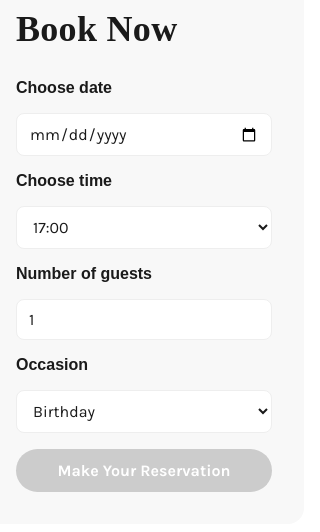
Test: submit button is disabled and error shows when a past date is entered
Type "2020-01-01" into the date field labelled "Choose date". click: (144, 135)
box: [16,113,272,156]
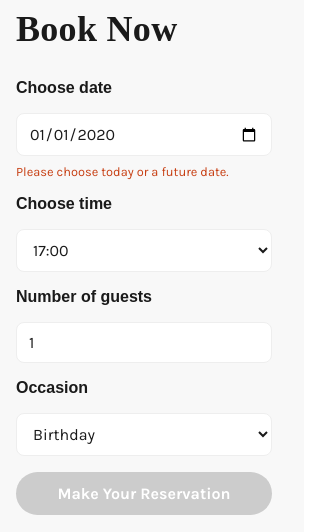
Expected: the button "Make Your Reservation" is disabled, [16,472,272,515]
Expected: the text "Please choose today or a future date." is shown, [16,164,229,179]
